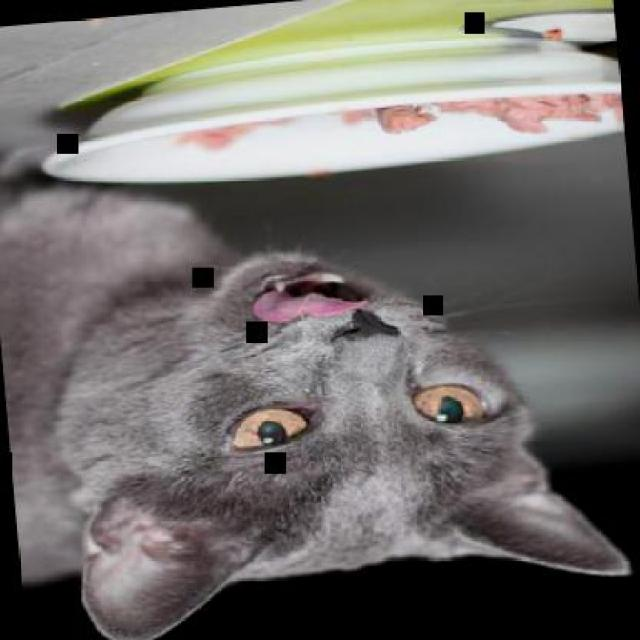cat: (0, 123, 637, 639)
